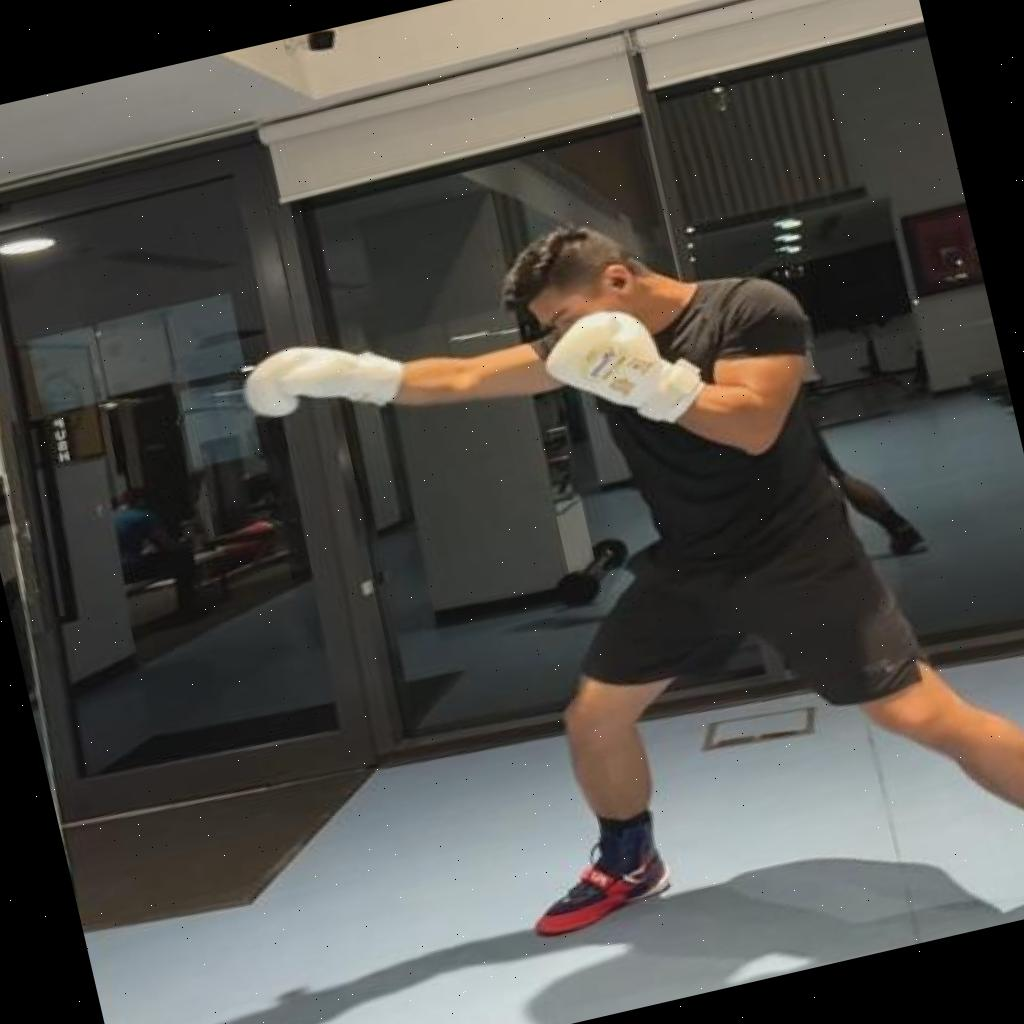jab: (211, 132, 1024, 1024)
